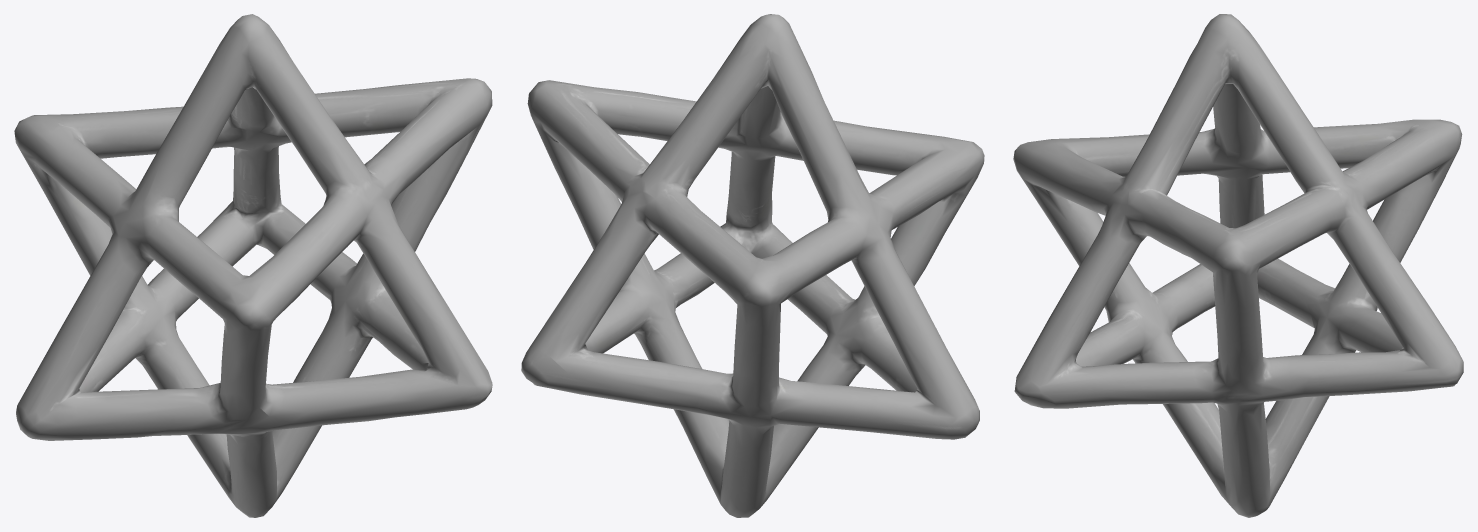
Rendered from Silver.fbx.
The picture shows the model from 3 angles, left to right: view 1: azimuth 30°, elevation 25°; view 2: azimuth 150°, elevation 25°; view 3: azimuth 270°, elevation 25°; orthographic projection. The views are drawn at different scales.
Visible parts, largest first — view 1: tripo_node_f14a4b91; view 2: tripo_node_f14a4b91; view 3: tripo_node_f14a4b91.
Boxes of the visible parts, x1,y1,x2,y2 form: tripo_node_f14a4b91: (14, 14, 492, 517); tripo_node_f14a4b91: (521, 14, 984, 517); tripo_node_f14a4b91: (1013, 14, 1463, 517).
Bounding box in the file's own units: 0.9495 × 0.9997 × 0.8283.
1 material, 1 textured.
